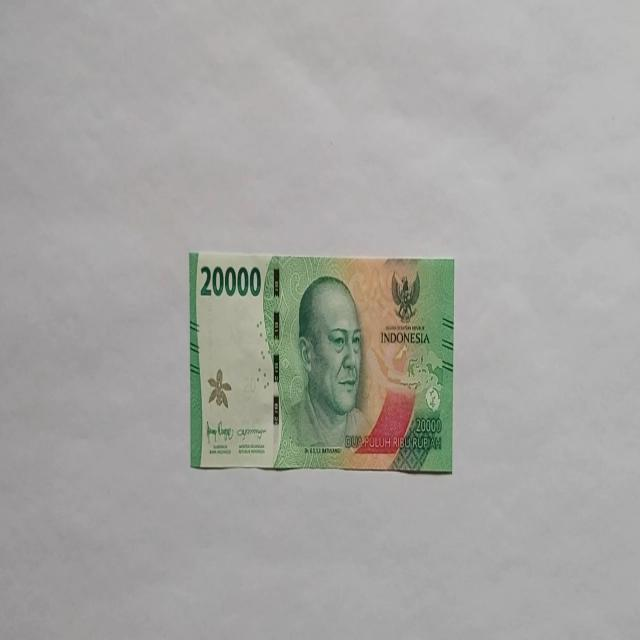dua puluh ribu rupiah: (188, 250, 456, 473)
